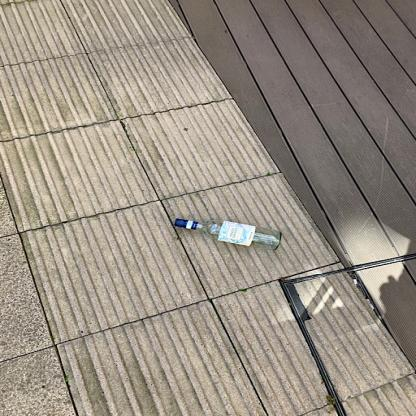trash: (170, 212, 288, 257)
